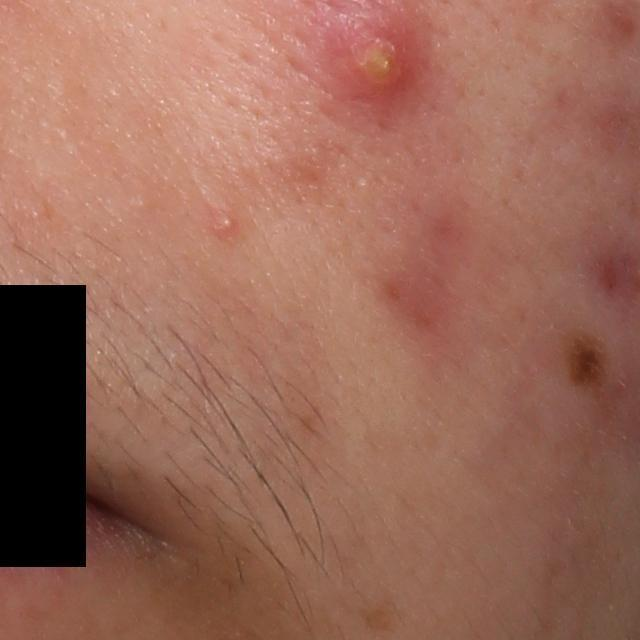pustule: (333, 14, 430, 113)
